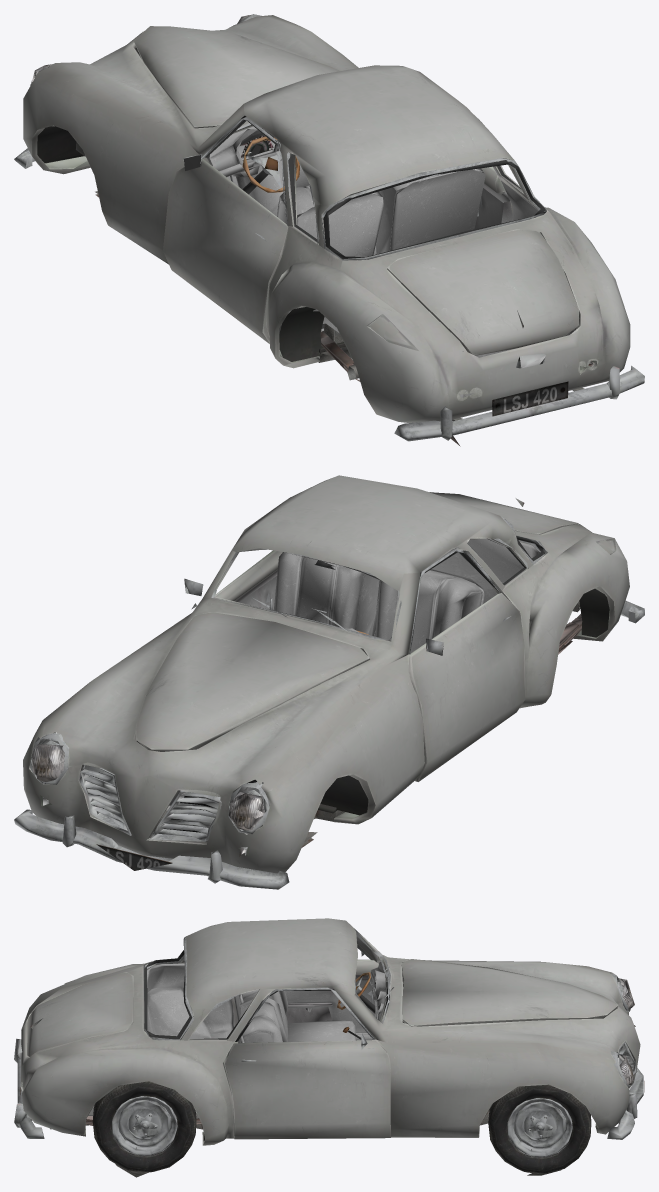
File: classic_lo.glb
3 renders of one model, top to bottom at view 1: azimuth 30°, elevation 25°; view 2: azimuth 150°, elevation 25°; view 3: azimuth 270°, elevation 25°, orthographic. The views are drawn at different scales.
Parts seen in each view (by area): view 1: body; view 2: body; view 3: body, wheel_R, wheel_F.
Boxes of the visible parts, box(x1,y1,x2,y2) form: body: box(14, 14, 644, 446); body: box(14, 475, 644, 889); body: box(14, 918, 644, 1177); wheel_R: box(92, 1081, 196, 1172); wheel_F: box(488, 1084, 591, 1174).
Bounding box in the file's own units: 1.81 × 1.51 × 4.44.
15 materials, 12 textured.
